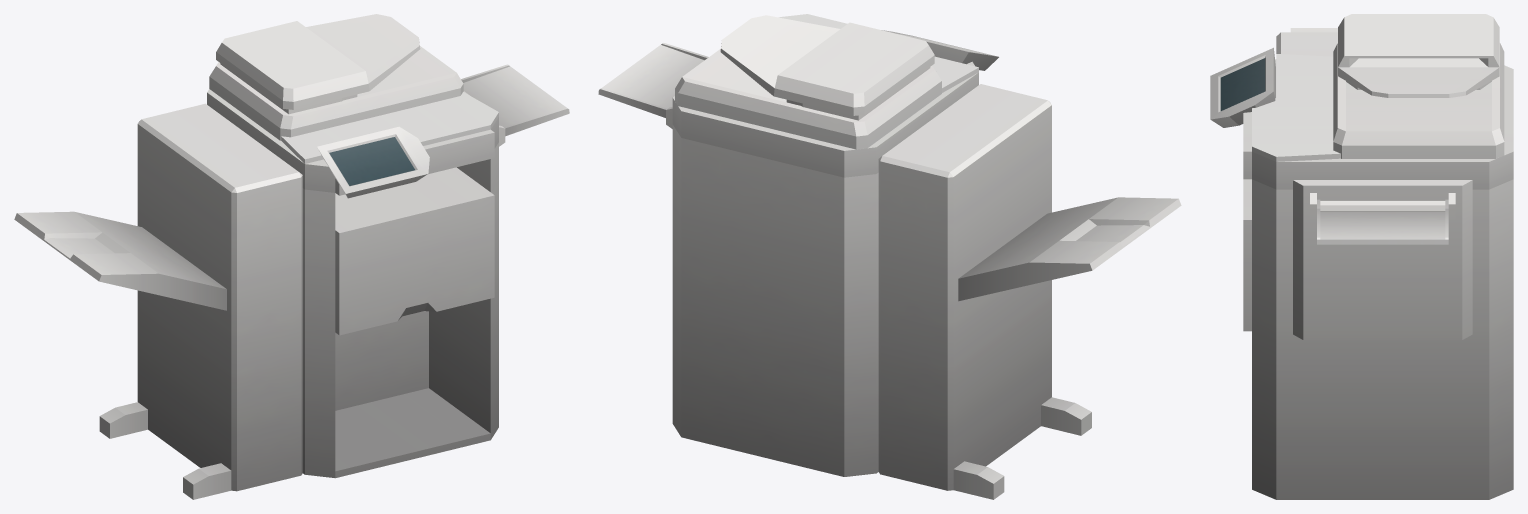
The model's file is PhotoCopier.fbx.
The picture shows the model from 3 angles, left to right: view 1: azimuth 30°, elevation 25°; view 2: azimuth 150°, elevation 25°; view 3: azimuth 270°, elevation 25°; orthographic projection. The views are drawn at different scales.
Visible parts, largest first — view 1: PhotoCopier; view 2: PhotoCopier; view 3: PhotoCopier.
Part boxes in pixels (bbox=[...]): PhotoCopier: bbox=[14, 14, 569, 499]; PhotoCopier: bbox=[598, 14, 1181, 499]; PhotoCopier: bbox=[1210, 14, 1513, 499].
Size of the model in its own units: 149 by 106 by 74.36.
